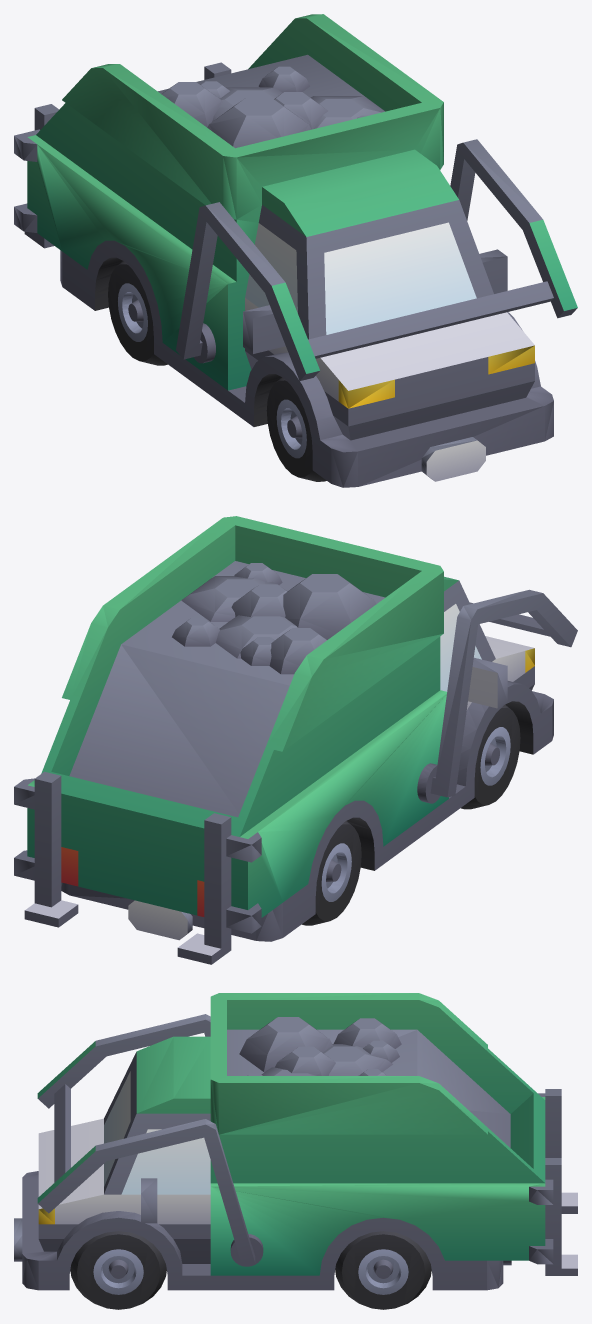
File: car_garbage_truck.fbx
The picture shows the model from 3 angles, top to bottom: view 1: azimuth 30°, elevation 25°; view 2: azimuth 150°, elevation 25°; view 3: azimuth 270°, elevation 25°; orthographic projection. The views are drawn at different scales.
Visible parts, largest first — view 1: car_garbage_truck_LOD0; view 2: car_garbage_truck_LOD0; view 3: car_garbage_truck_LOD0.
Part boxes in pixels (left/top/right/bottom): car_garbage_truck_LOD0: left=14, top=14, right=577, bottom=487; car_garbage_truck_LOD0: left=14, top=516, right=577, bottom=964; car_garbage_truck_LOD0: left=14, top=993, right=577, bottom=1309.
Size of what is drawn, in the model's own units: 2.82 by 2.82 by 6.07.
1 material, 1 textured.
